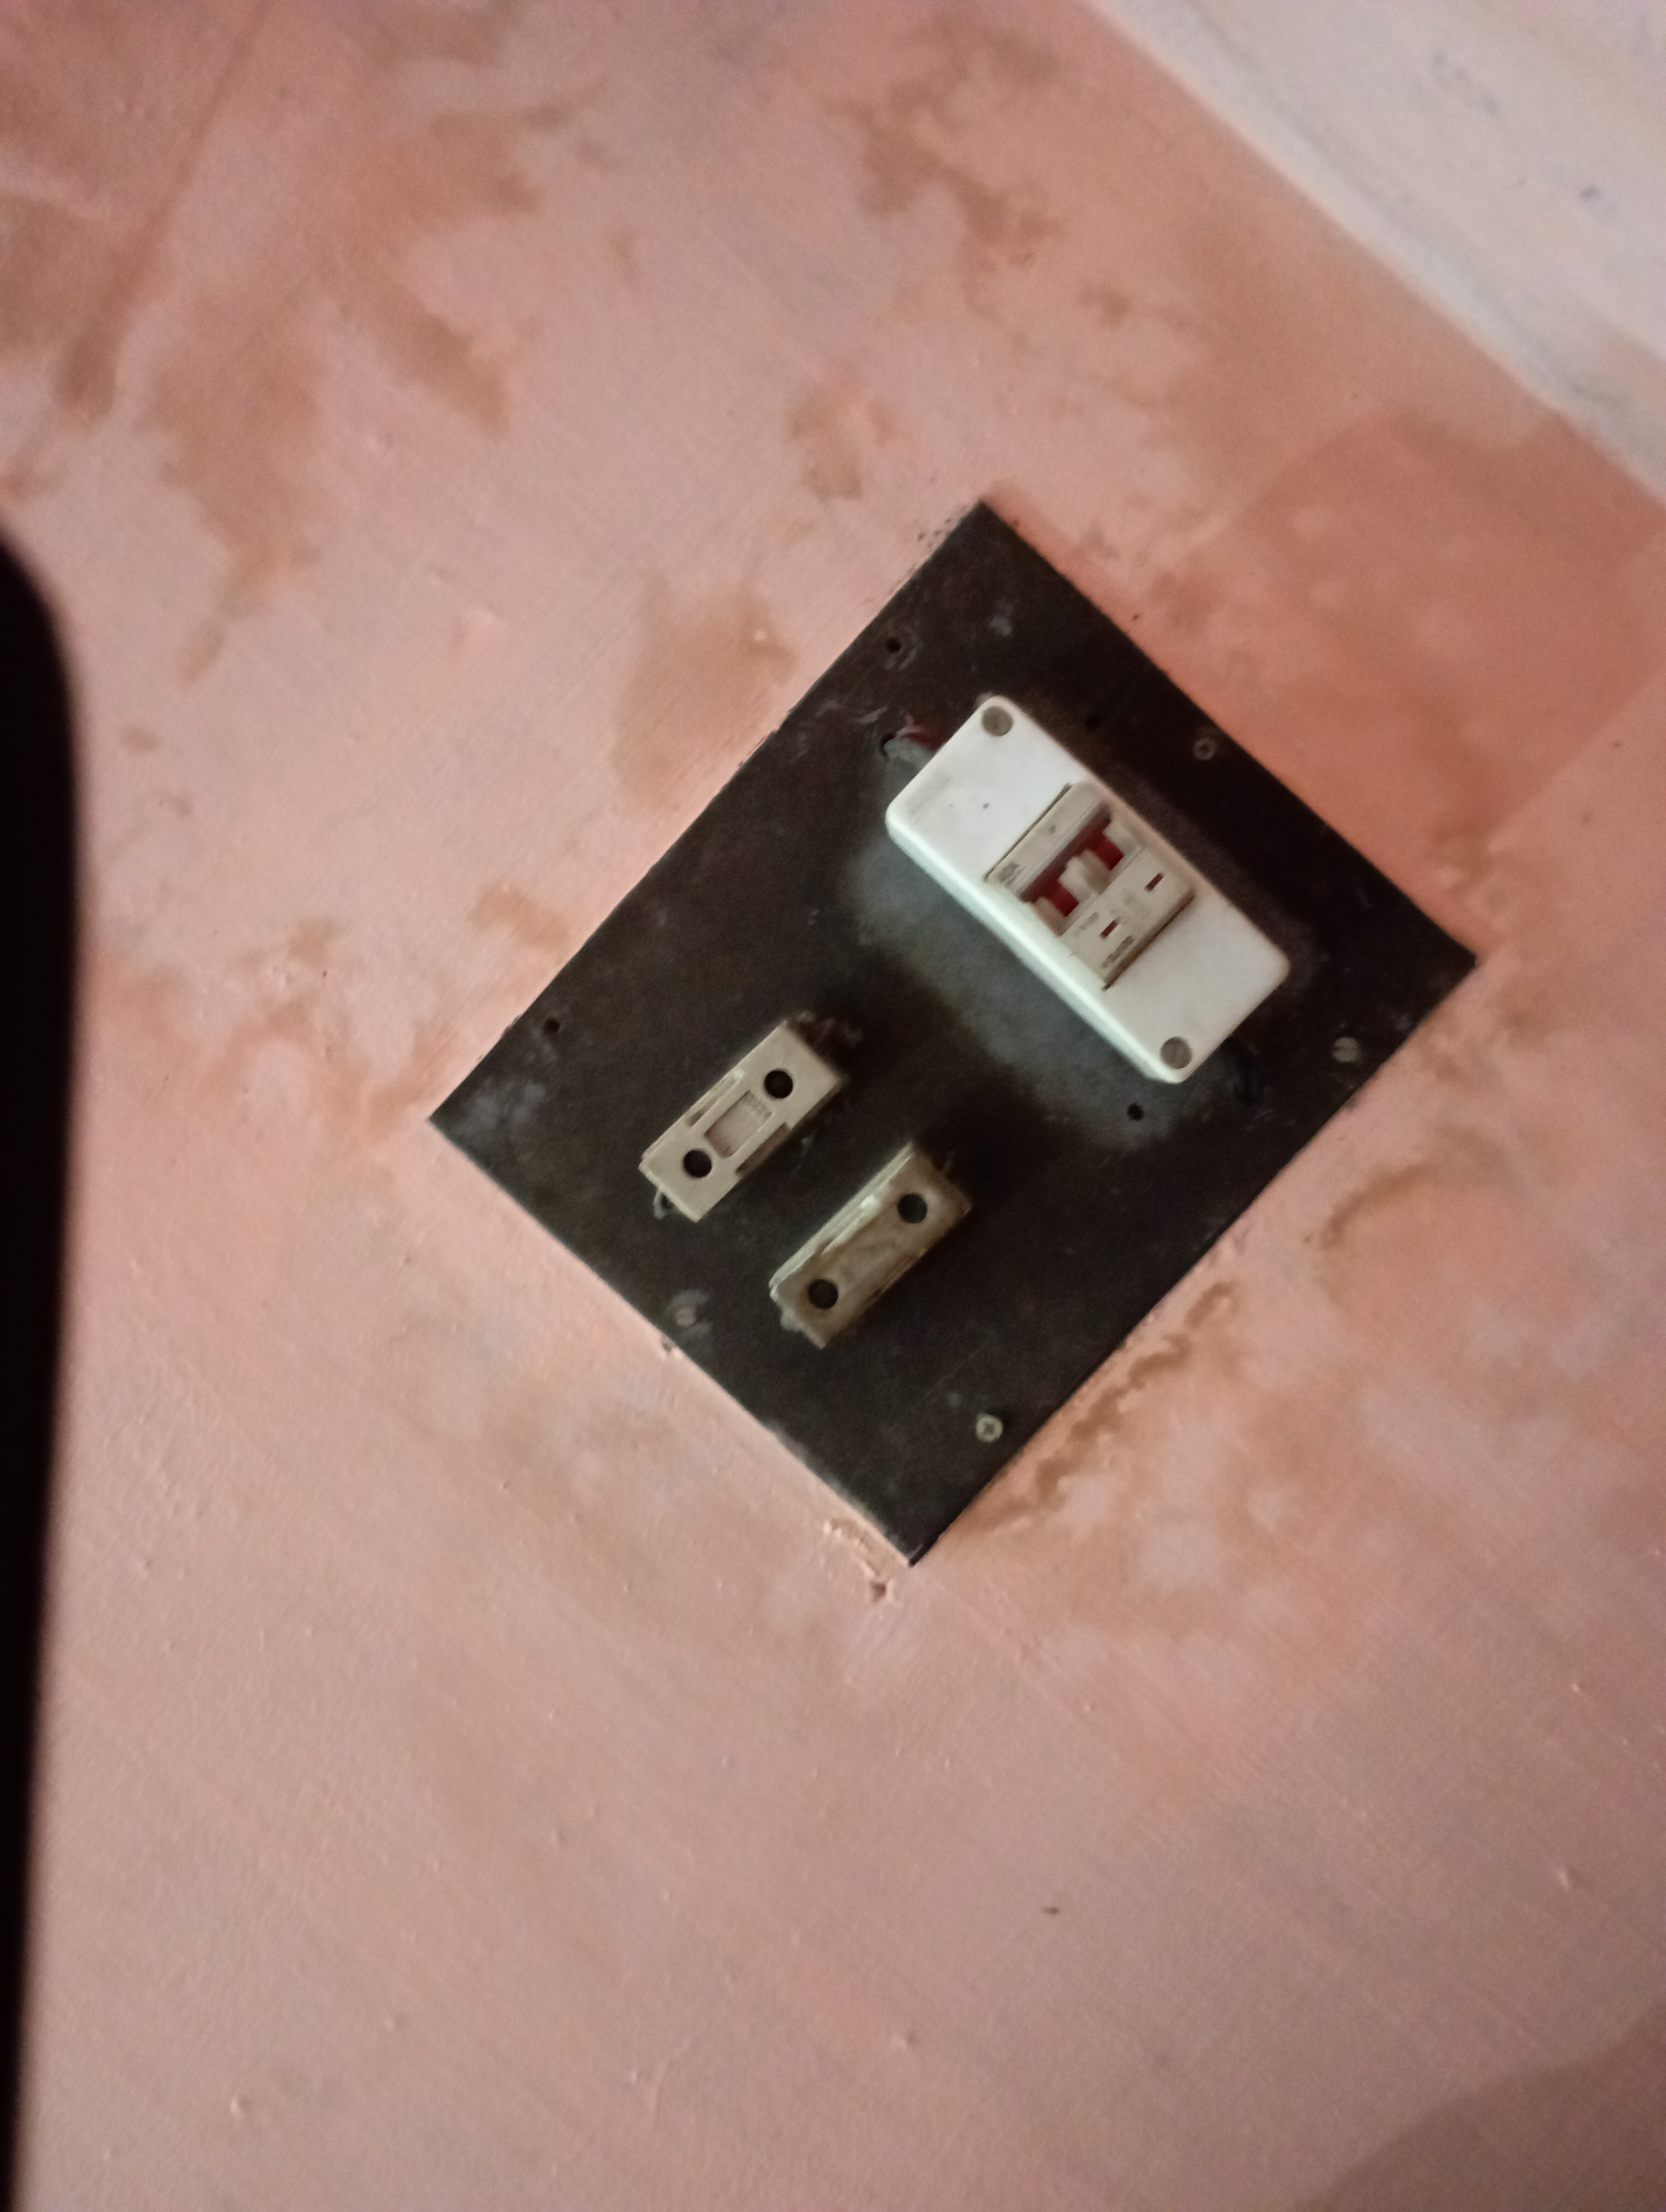ciruit_breaker: (859, 656, 1326, 1098)
fuse: (754, 1137, 1027, 1348), (621, 1018, 833, 1229)
